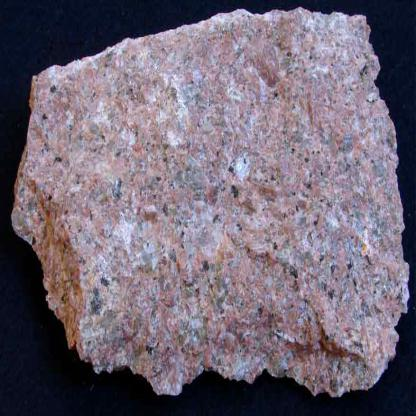Igneous_Granite: (12, 15, 415, 415)
